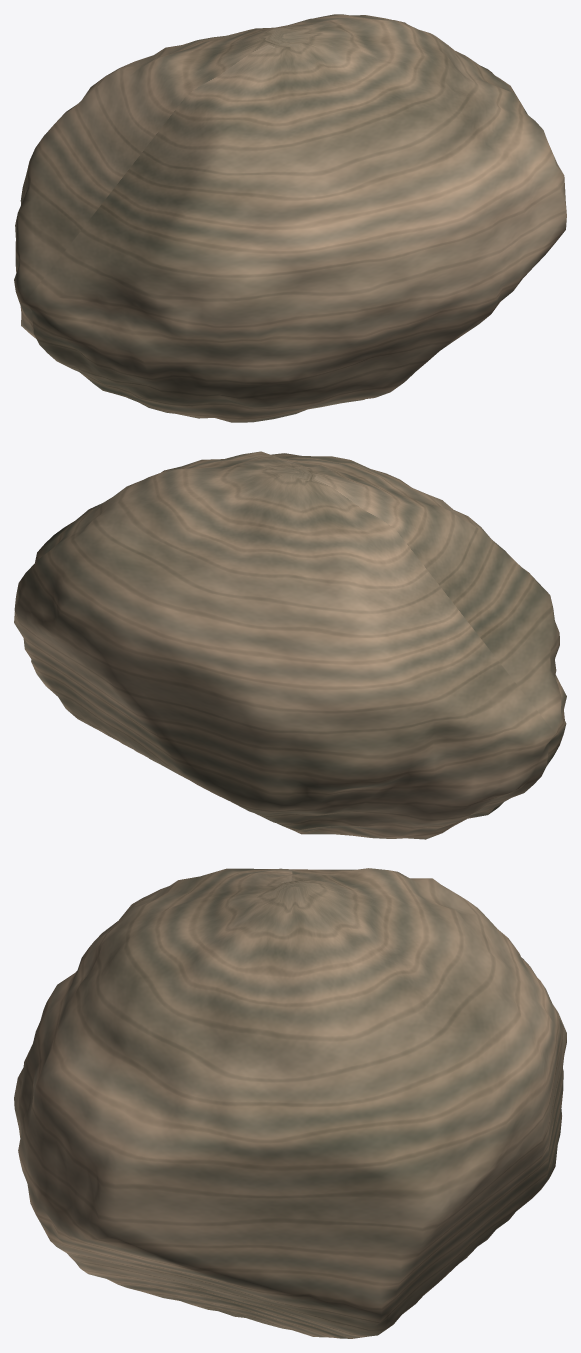
Rendered from PZ_R02_Angular_Fieldstone_Sediment.glb.
The picture shows the model from 3 angles, top to bottom: view 1: azimuth 30°, elevation 25°; view 2: azimuth 150°, elevation 25°; view 3: azimuth 270°, elevation 25°; orthographic projection. The views are drawn at different scales.
Visible parts, largest first — view 1: RENDER_R02_Angular_Fieldstone_Sediment; view 2: RENDER_R02_Angular_Fieldstone_Sediment; view 3: RENDER_R02_Angular_Fieldstone_Sediment.
Part boxes in pixels (x1,y1,x2,y2): RENDER_R02_Angular_Fieldstone_Sediment: (14, 14, 566, 422); RENDER_R02_Angular_Fieldstone_Sediment: (14, 451, 566, 839); RENDER_R02_Angular_Fieldstone_Sediment: (14, 868, 566, 1338).
Size of the model in its own units: 0.55 by 0.34 by 0.43.
1 material, 1 textured.
